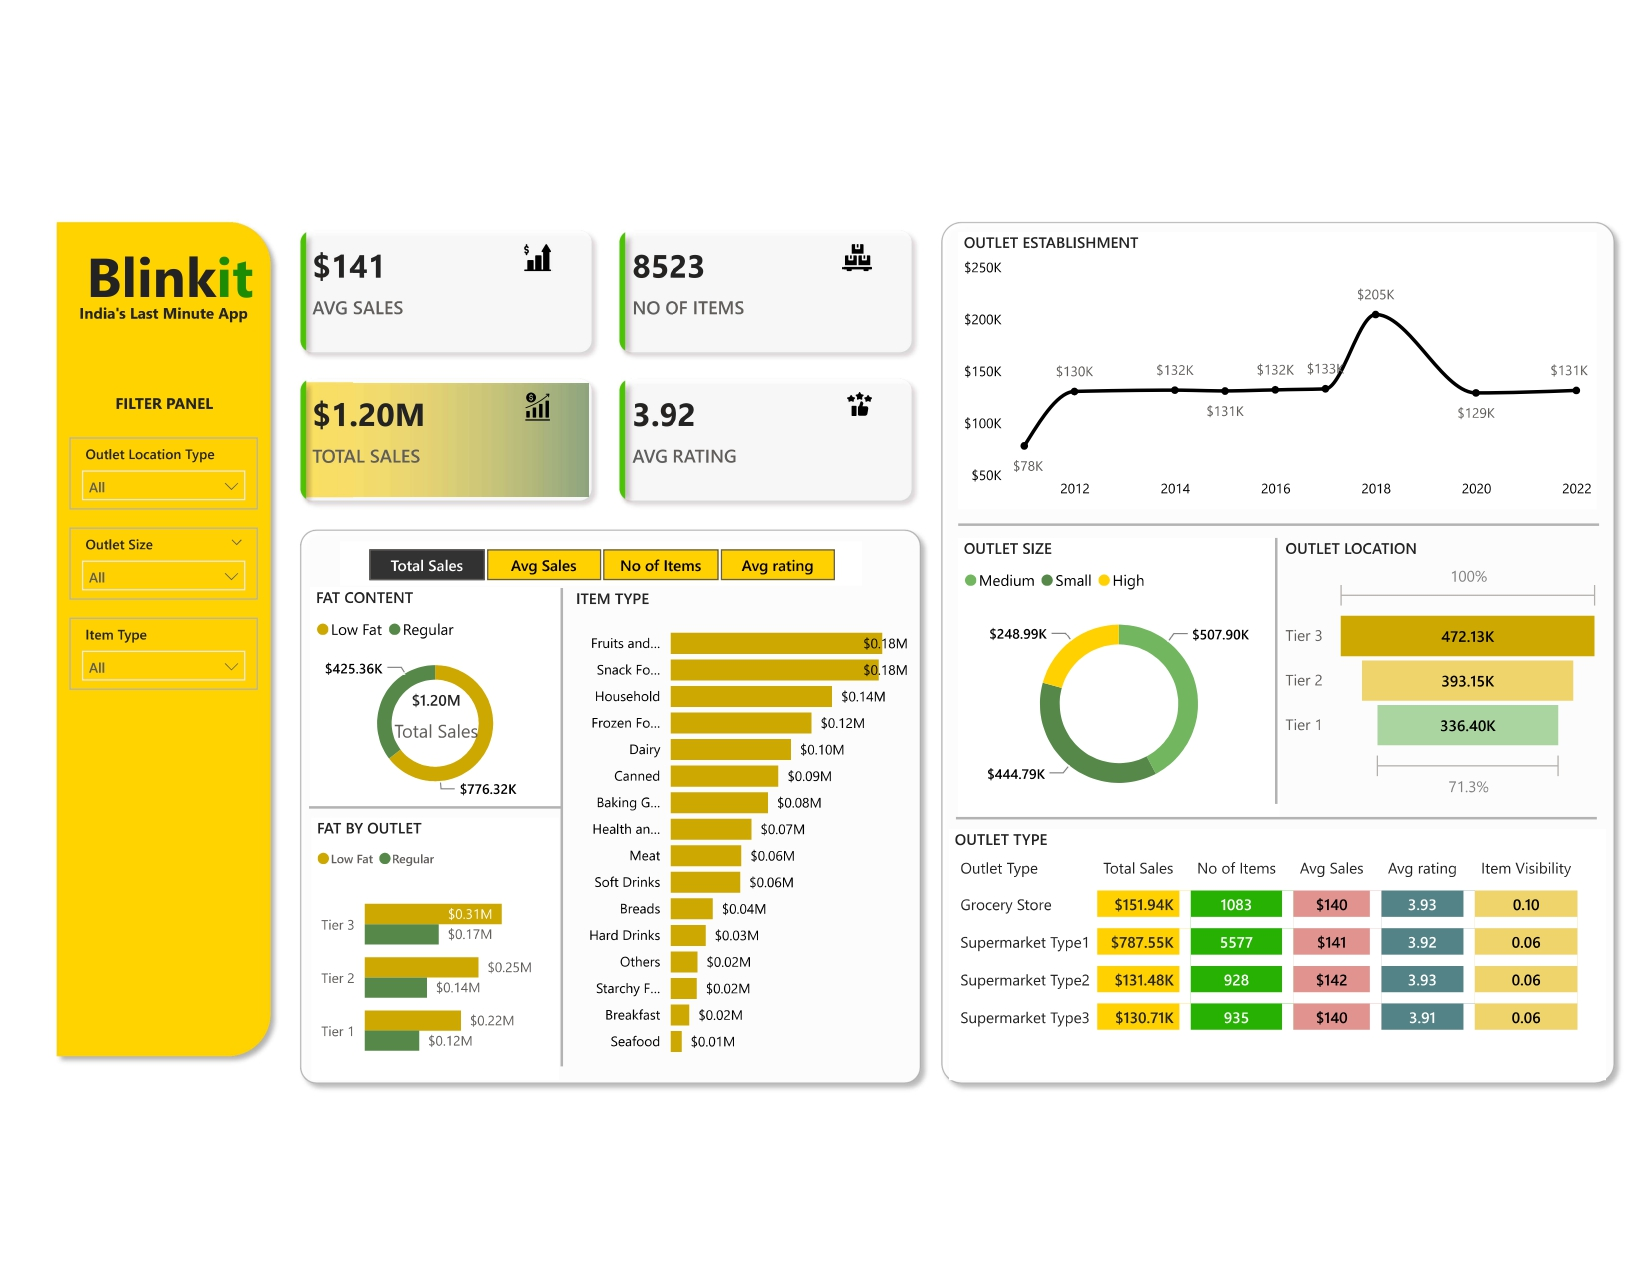

Layout of this report page (visuals, bound fields, positions):
{"tool":"powerbi","page":{"name":"Page 1","canvas":[1400,800],"ordinal":0},"visuals":[{"type":"shape","box":[16.5,25.7,205.8,749.6],"z":0},{"type":"textbox","box":[36.7,44.1,176.4,73.5],"z":1000},{"type":"textbox","box":[25.7,101,187.4,33.1],"z":2000},{"type":"cardVisual","fields":{"Data":["BlinkIT Grocery Data.Avg Sales","BlinkIT Grocery Data.No of Items","BlinkIT Grocery Data.Total Sales","BlinkIT Grocery Data.Avg rating"]},"box":[222.3,25.7,569.6,270.1],"z":3000},{"type":"textbox","box":[223,296,569,480],"z":4000},{"type":"shape","box":[229.7,295.8,562.2,503.4],"z":5000},{"type":"slicer","fields":{"Values":["Metric.Metric"]},"box":[274,315,458.3,39.4],"z":6000},{"type":"donutChart","title":"FAT CONTENT","fields":{"Y":["BlinkIT Grocery Data.Total Sales"],"Category":["BlinkIT Grocery Data.Item Fat Content"]},"box":[248,354.6,218.6,192.9],"z":7000},{"type":"cardVisual","fields":{"Data":["BlinkIT Grocery Data.Total Sales"]},"box":[295.8,422.6,124.9,90],"z":8000},{"type":"clusteredBarChart","title":"FAT BY OUTLET","fields":{"Y":["BlinkIT Grocery Data.Total Sales"],"Category":["BlinkIT Grocery Data.Outlet Location Type"],"Series":["BlinkIT Grocery Data.Item Fat Content"]},"box":[248.8,557.5,217.3,229.9],"z":9000},{"type":"shape","box":[247.2,538.6,220.5,18.9],"z":10000},{"type":"shape","box":[461.2,356.4,14.7,418.9],"z":11000},{"type":"barChart","title":"ITEM TYPE","fields":{"Y":["BlinkIT Grocery Data.Total Sales"],"Category":["BlinkIT Grocery Data.Item Type"]},"box":[475.9,356.4,301.3,420.7],"z":12000},{"type":"shape","box":[791.9,25.7,608.1,773.5],"z":13000},{"type":"lineChart","title":"OUTLET ESTABLISHMENT","fields":{"Y":["BlinkIT Grocery Data.Total Sales"],"Category":["BlinkIT Grocery Data.Outlet Establishment Year"]},"box":[815.7,44.1,560.6,242.5],"z":14000},{"type":"shape","box":[815.7,286.6,562.2,27.6],"z":15000},{"type":"donutChart","title":"OUTLET SIZE","fields":{"Y":["BlinkIT Grocery Data.Total Sales"],"Category":["BlinkIT Grocery Data.Outlet Size"]},"box":[815.7,311.8,281.9,245.7],"z":16000},{"type":"shape","box":[1088.2,311.8,14.2,233.1],"z":17000},{"type":"funnel","title":"OUTLET LOCATION","fields":{"Category":["BlinkIT Grocery Data.Outlet Location Type"],"Y":["Sum(BlinkIT Grocery Data.Sales)"]},"box":[1097.6,311.8,286.6,233.1],"z":18000},{"type":"shape","box":[814.2,543.3,562.2,28.3],"z":19000},{"type":"pivotTable","title":"OUTLET TYPE","fields":{"Rows":["BlinkIT Grocery Data.Outlet Type"],"Values":["BlinkIT Grocery Data.Total Sales","BlinkIT Grocery Data.No of Items","BlinkIT Grocery Data.Avg Sales","BlinkIT Grocery Data.Avg rating","Avg(BlinkIT Grocery Data.Item Visibility)"]},"box":[807.9,566.9,576.4,220.5],"z":20000},{"type":"slicer","fields":{"Values":["BlinkIT Grocery Data.Outlet Location Type"]},"box":[36.7,224.1,165.4,62.5],"z":21000},{"type":"slicer","fields":{"Values":["BlinkIT Grocery Data.Outlet Size"]},"box":[36.7,303.1,165.4,62.5],"z":22000},{"type":"slicer","fields":{"Values":["BlinkIT Grocery Data.Item Type"]},"box":[36.7,382.2,165.4,62.5],"z":23000},{"type":"textbox","box":[67.7,179.5,103.9,44.1],"z":24000},{"type":"textbox","box":[55.1,677.2,102.4,53.5],"z":25000}]}

Visuals, with their boxes on the page's 1400x800 design canvas (x1, y1, x2, y2). These are canvas units, not pixel positions in the 1650x1275 screenshot, which may show the page scaled, cropped or inside an application window:
shape: bbox(16, 26, 222, 775)
textbox: bbox(37, 44, 213, 118)
textbox: bbox(26, 101, 213, 134)
cardVisual - BlinkIT Grocery Data.Avg Sales x BlinkIT Grocery Data.No of Items: bbox(222, 26, 792, 296)
textbox: bbox(223, 296, 792, 776)
shape: bbox(230, 296, 792, 799)
slicer - Metric.Metric: bbox(274, 315, 732, 354)
"FAT CONTENT" donutChart: bbox(248, 355, 467, 548)
cardVisual - BlinkIT Grocery Data.Total Sales: bbox(296, 423, 421, 513)
"FAT BY OUTLET" clusteredBarChart: bbox(249, 558, 466, 787)
shape: bbox(247, 539, 468, 558)
shape: bbox(461, 356, 476, 775)
"ITEM TYPE" barChart: bbox(476, 356, 777, 777)
shape: bbox(792, 26, 1400, 799)
"OUTLET ESTABLISHMENT" lineChart: bbox(816, 44, 1376, 287)
shape: bbox(816, 287, 1378, 314)
"OUTLET SIZE" donutChart: bbox(816, 312, 1098, 558)
shape: bbox(1088, 312, 1102, 545)
"OUTLET LOCATION" funnel: bbox(1098, 312, 1384, 545)
shape: bbox(814, 543, 1376, 572)
"OUTLET TYPE" pivotTable: bbox(808, 567, 1384, 787)
slicer - BlinkIT Grocery Data.Outlet Location Type: bbox(37, 224, 202, 287)
slicer - BlinkIT Grocery Data.Outlet Size: bbox(37, 303, 202, 366)
slicer - BlinkIT Grocery Data.Item Type: bbox(37, 382, 202, 445)
textbox: bbox(68, 180, 172, 224)
textbox: bbox(55, 677, 158, 731)
